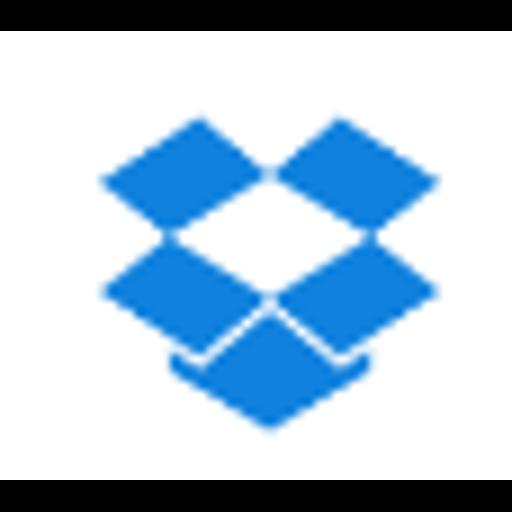Dropbox: (0, 31, 512, 480)
